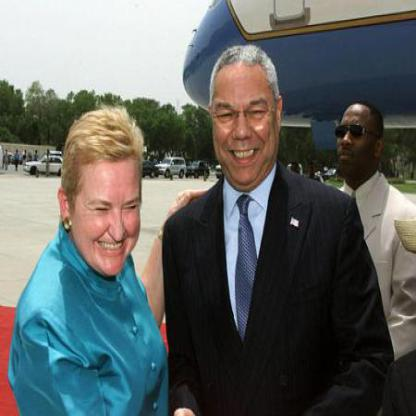face: (70, 127, 144, 280), (211, 48, 280, 186), (335, 102, 378, 182)
